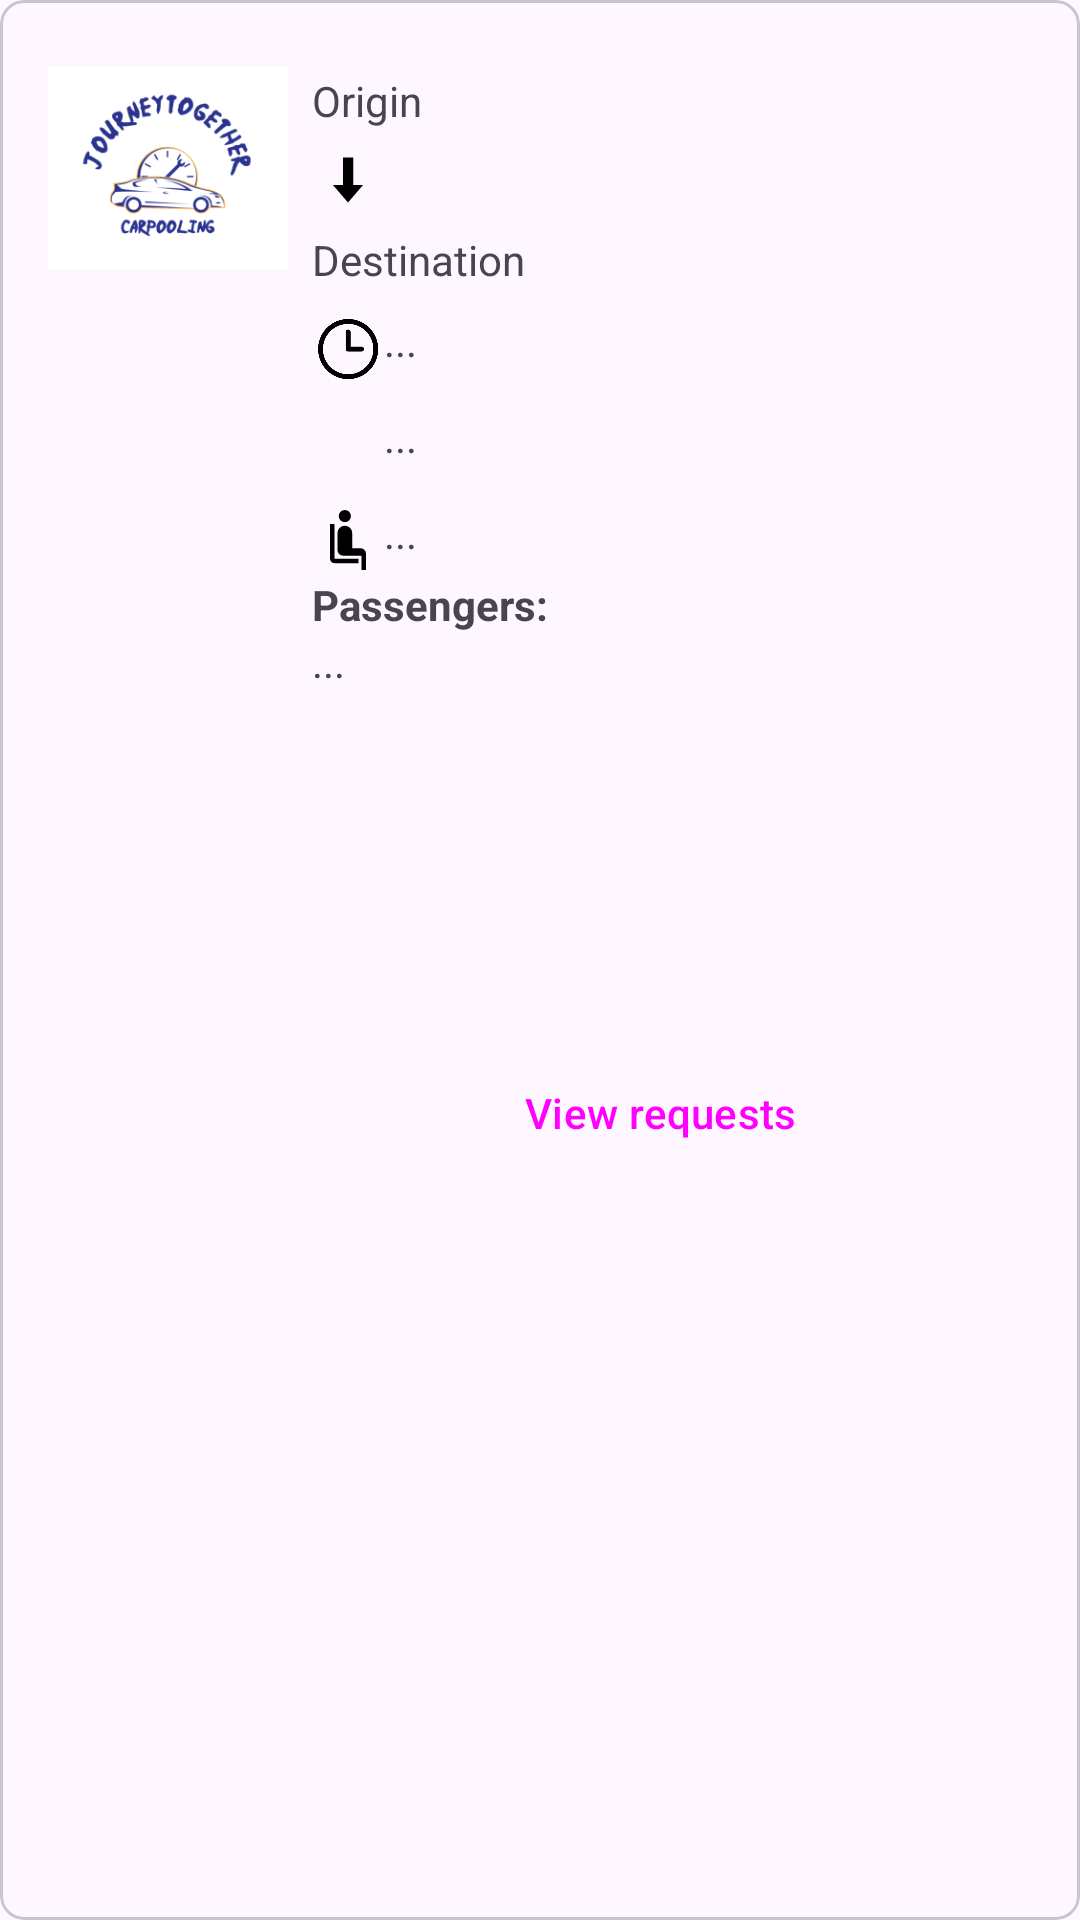

Locate icon controls on the screen. Image size 1080 × 1920, boxes as (x1,y1,x2,y2).
seats: (330,510,366,570)
time: (318,319,378,379)
